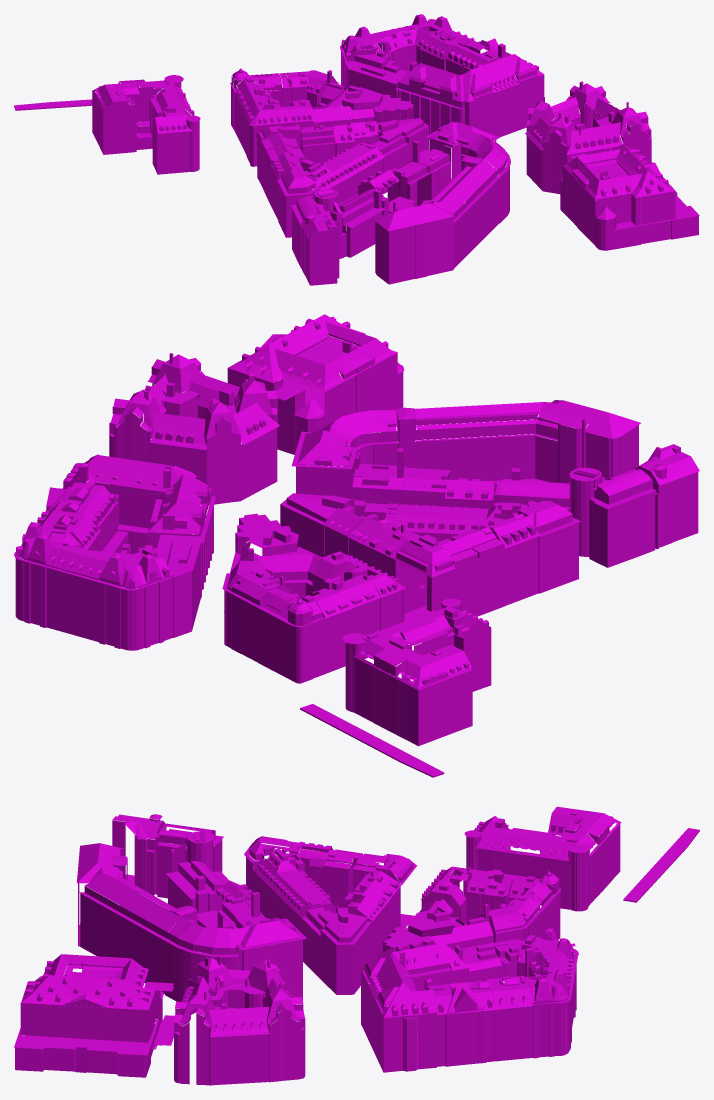
The model's file is data.gltf.
3 renders of one model, top to bottom at view 1: azimuth 30°, elevation 25°; view 2: azimuth 150°, elevation 25°; view 3: azimuth 270°, elevation 25°, orthographic. The views are drawn at different scales.
Parts seen in each view (by area): view 1: <DXF_ROOT>; view 2: <DXF_ROOT>; view 3: <DXF_ROOT>.
Part boxes in pixels (x1,y1,x2,y2): <DXF_ROOT>: (14,14,699,285); <DXF_ROOT>: (14,314,699,777); <DXF_ROOT>: (14,806,699,1085).
Bounding box in the file's own units: 221 × 36.87 × 264.
